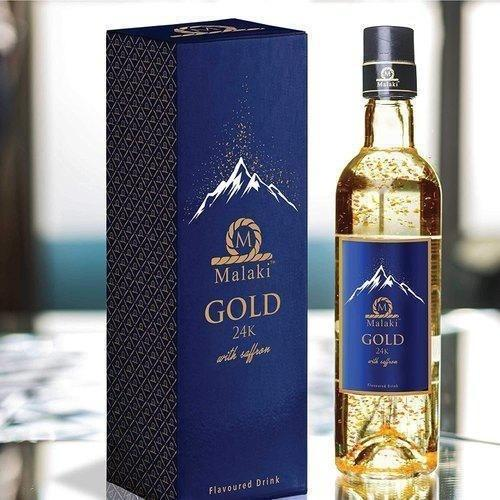bottle-glass: (330, 21, 444, 483)
